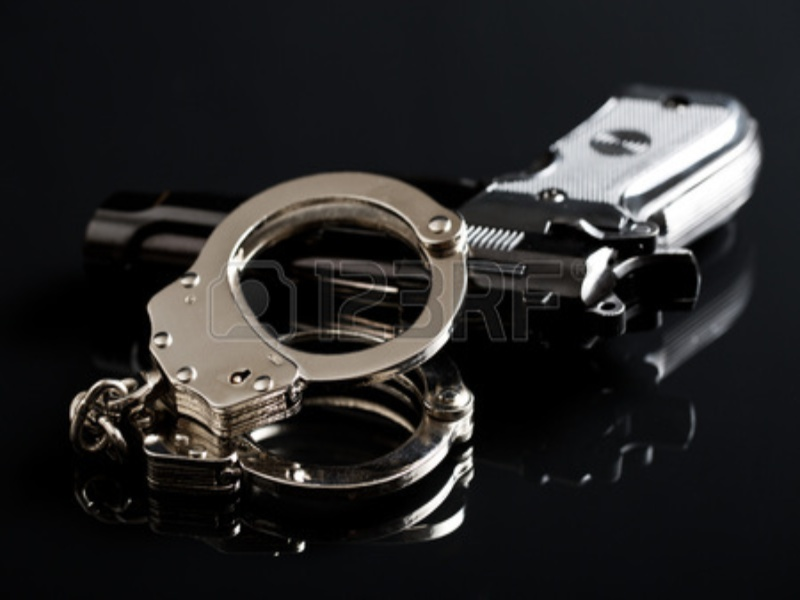gun: (71, 21, 747, 303)
